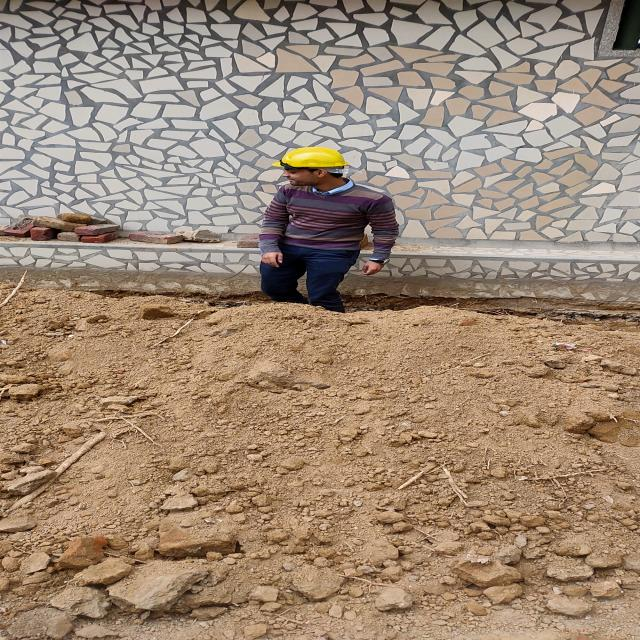no jacket: (258, 147, 398, 313)
